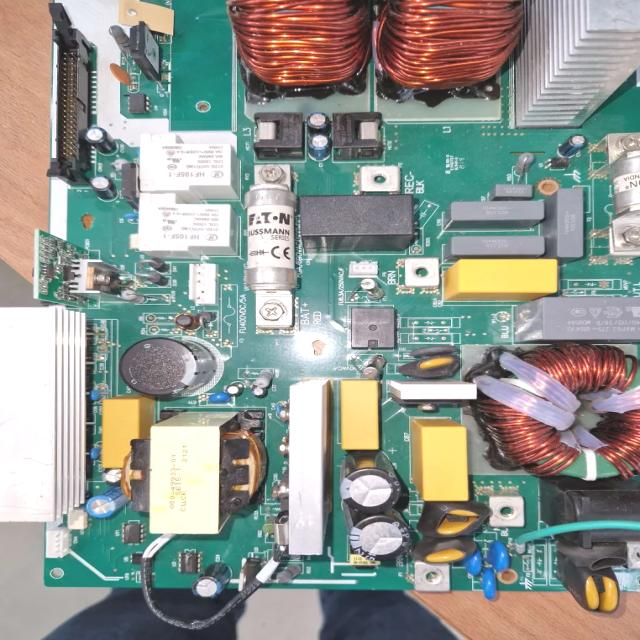A: (463, 346, 640, 481), (223, 0, 373, 98), (376, 0, 524, 98)
B: (246, 164, 296, 336), (593, 134, 640, 264)
C: (120, 338, 218, 396), (344, 512, 414, 568), (338, 454, 402, 512)
Wire: (142, 558, 262, 629), (516, 521, 640, 552)
